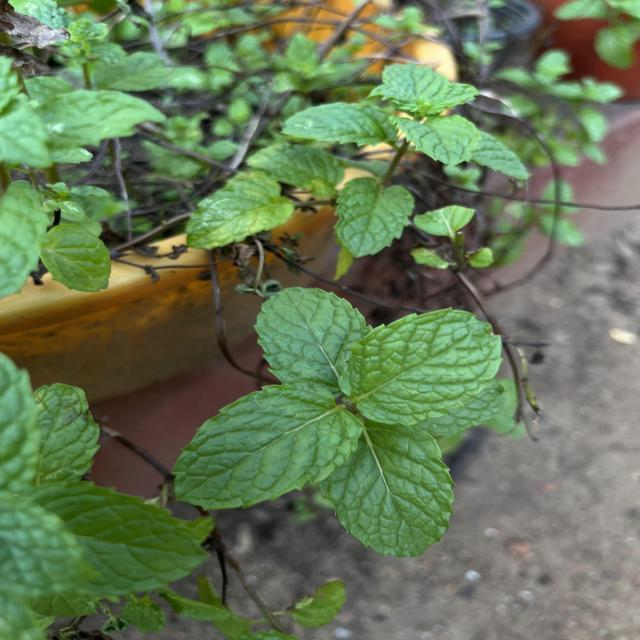Mentha spicata: (170, 381, 368, 512), (337, 306, 505, 427), (318, 424, 457, 559), (252, 286, 372, 386)
